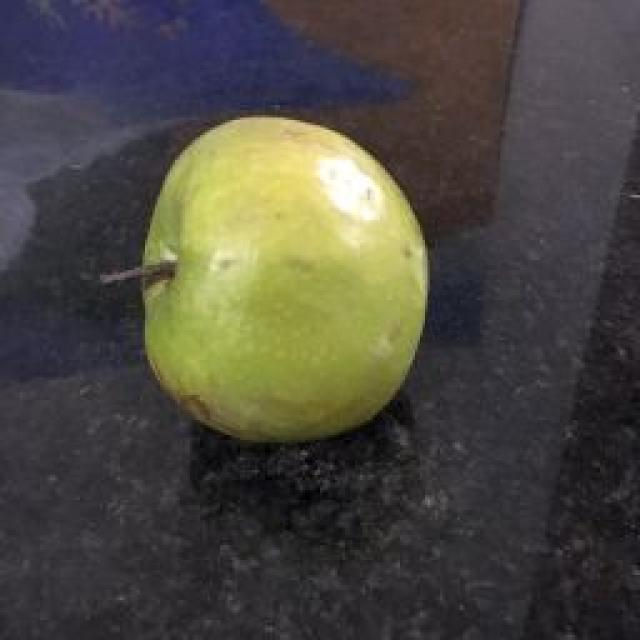Good_Apple: (135, 115, 428, 448)
